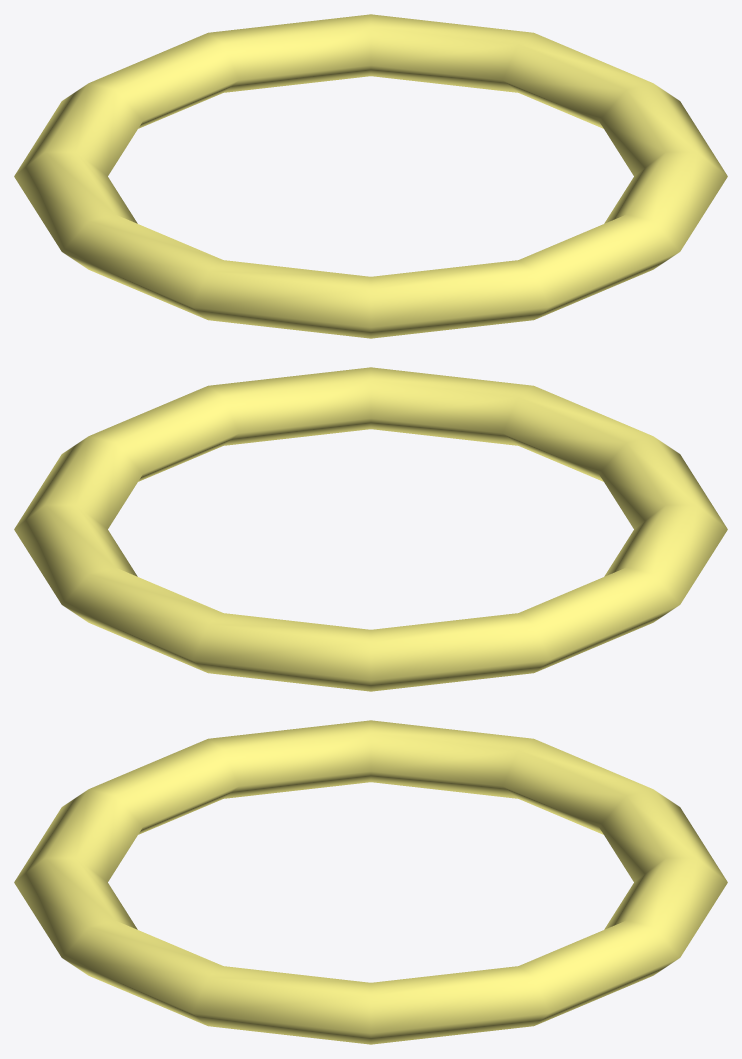
Rendered from Halo.fbx.
The picture shows the model from 3 angles, top to bottom: view 1: azimuth 30°, elevation 25°; view 2: azimuth 150°, elevation 25°; view 3: azimuth 270°, elevation 25°; orthographic projection.
Parts seen in each view (by area): view 1: pTorus1; view 2: pTorus1; view 3: pTorus1.
Boxes of the visible parts, x1,y1,x2,y2 form: pTorus1: (14,14,727,338); pTorus1: (14,367,727,691); pTorus1: (14,720,727,1044).
Bounding box in the file's own units: 20.69 × 1.56 × 20.69.
Materials: 2 (2 with a texture image).
